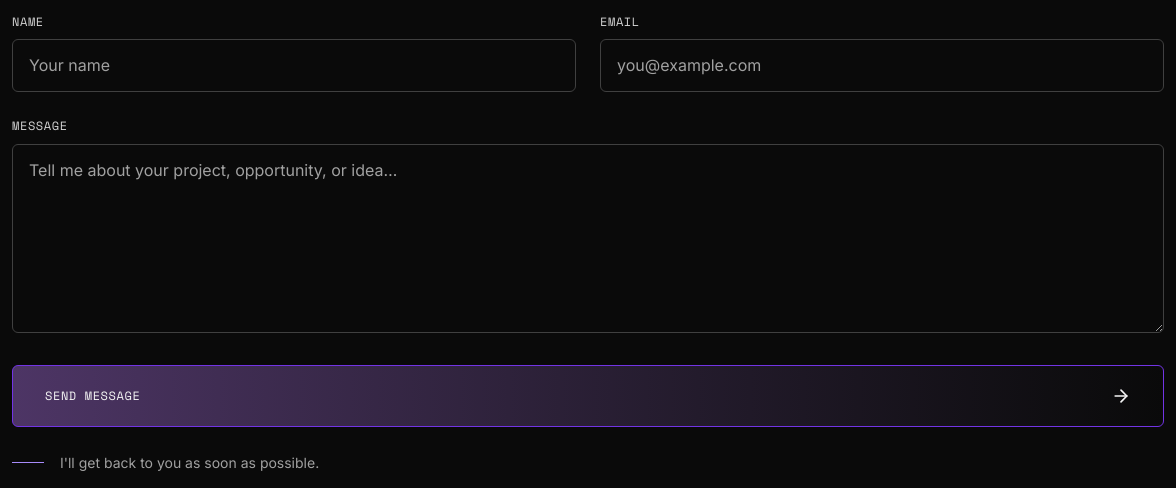
Test: ContactForm › clears the 'sent' confirmation once the visitor edits the form again
Type "Ada" into the field labelled "Name" at (294, 66), box [12,39,576,92]
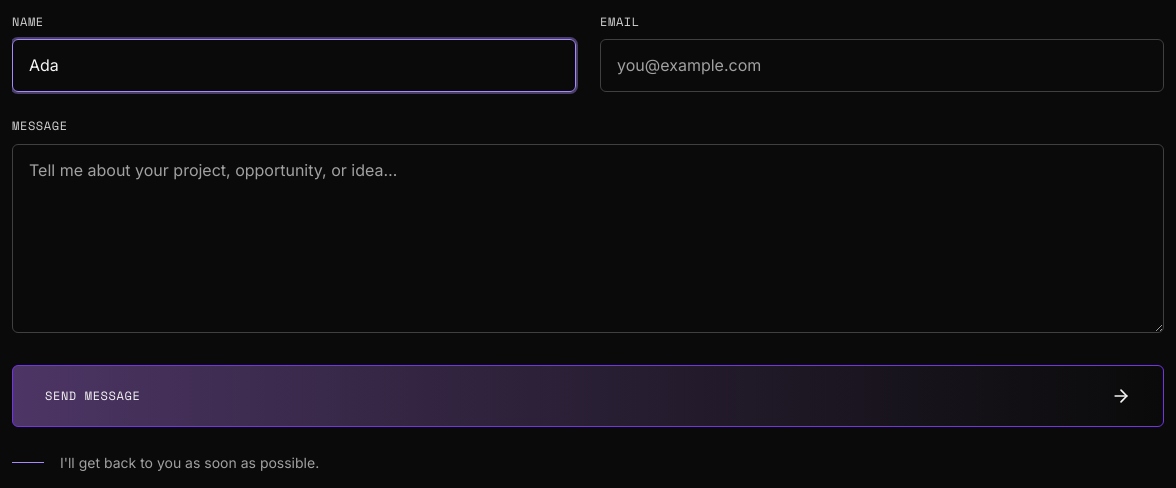
Type "ada@example.com" into the field labelled "Email" at (882, 66), box [600,39,1164,92]
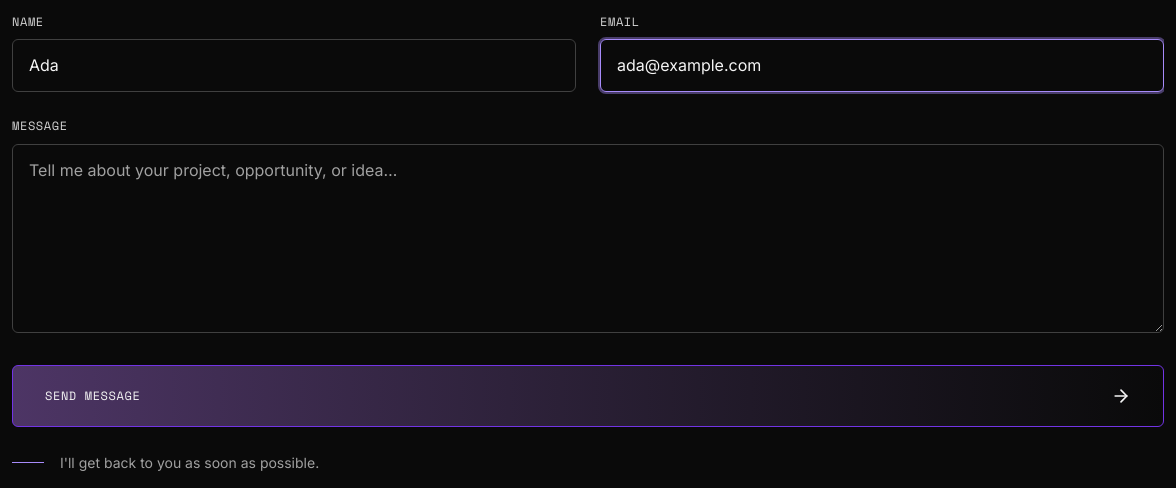
Type "Would love to collaborate." into the text box labelled "Message" at (588, 238), box [12,144,1164,333]
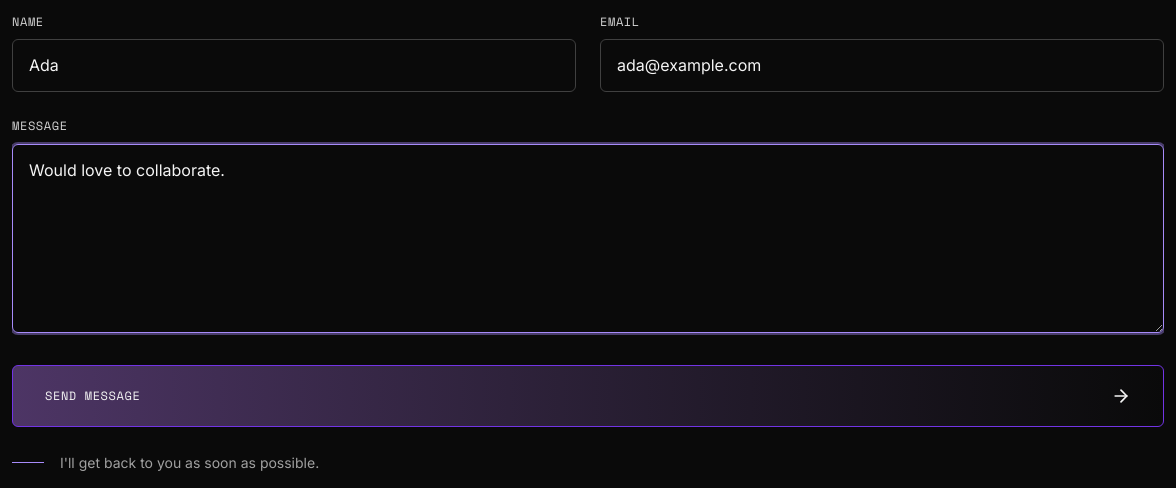
Click the button "Send message" at (93, 396), box [12,365,1164,427]
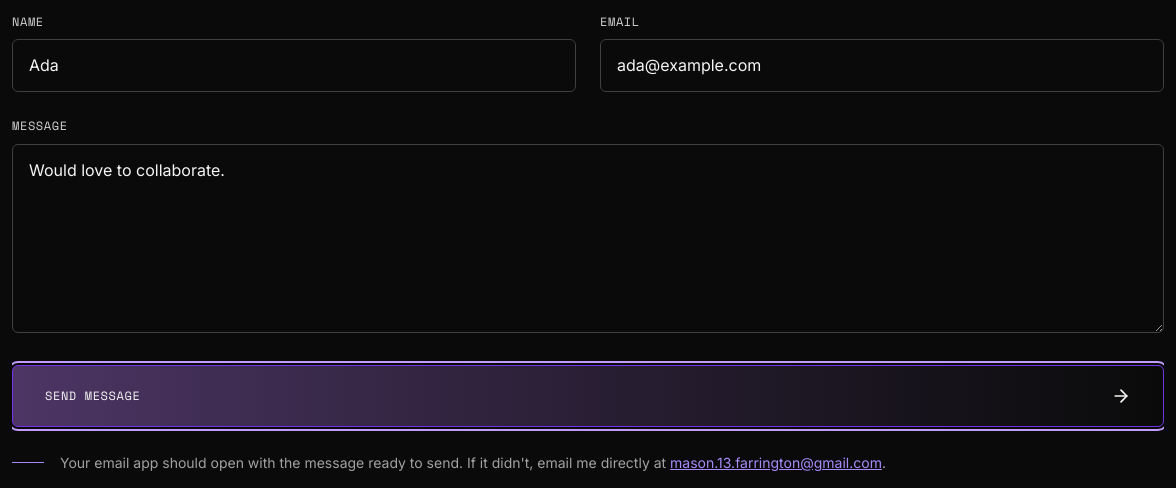
Expected: the message shows "mason.13.farrington@gmail.com", [670,454,882,471]
Type " Also, one more thing." into the text box labelled "Message" at (588, 238), box [12,144,1164,333]
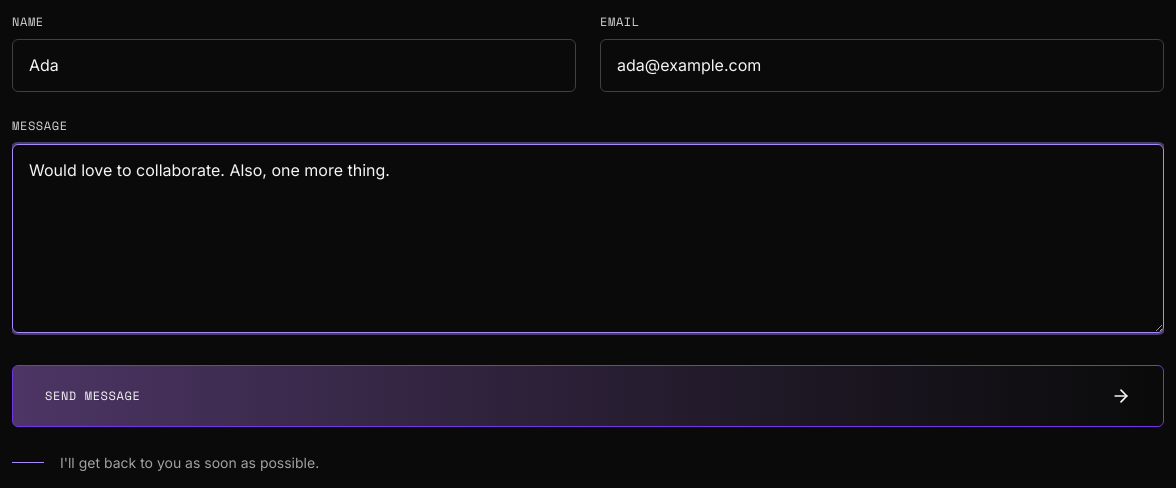
Expected: the message reads "I'll get back to you as soon as possible.", [60,454,319,471]
